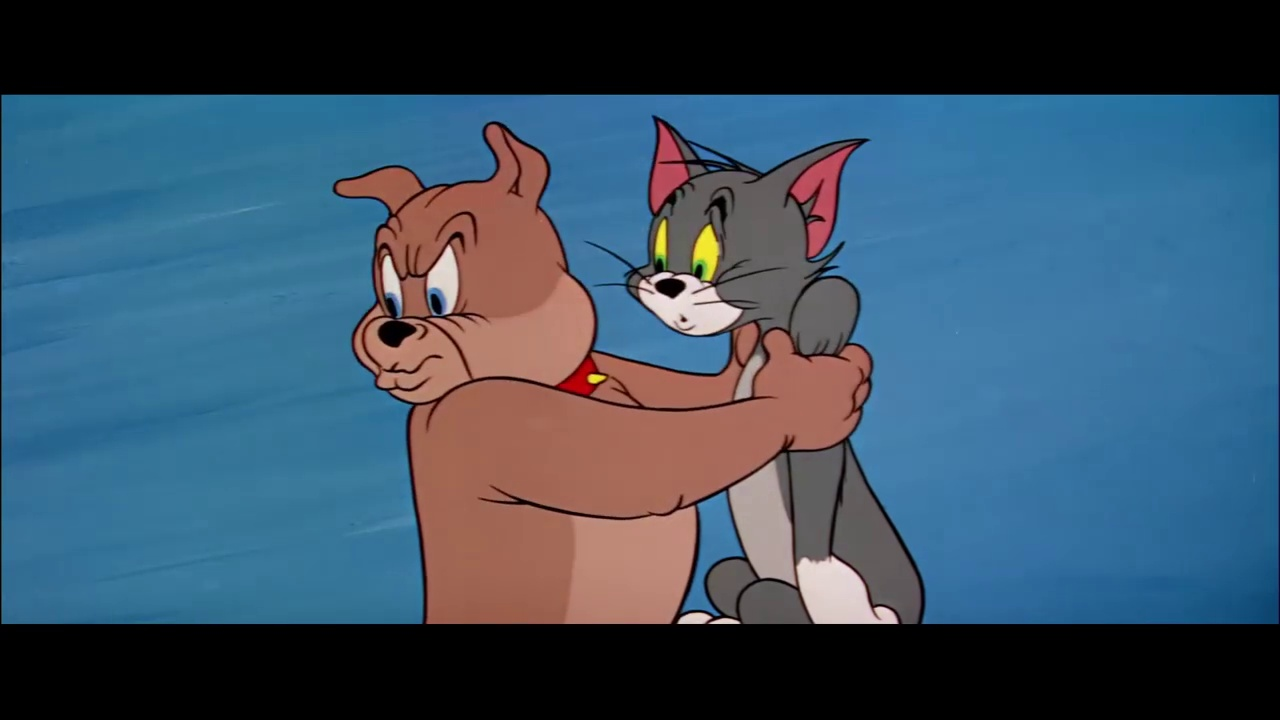spike: (329, 118, 607, 410)
tom: (620, 109, 875, 343)
